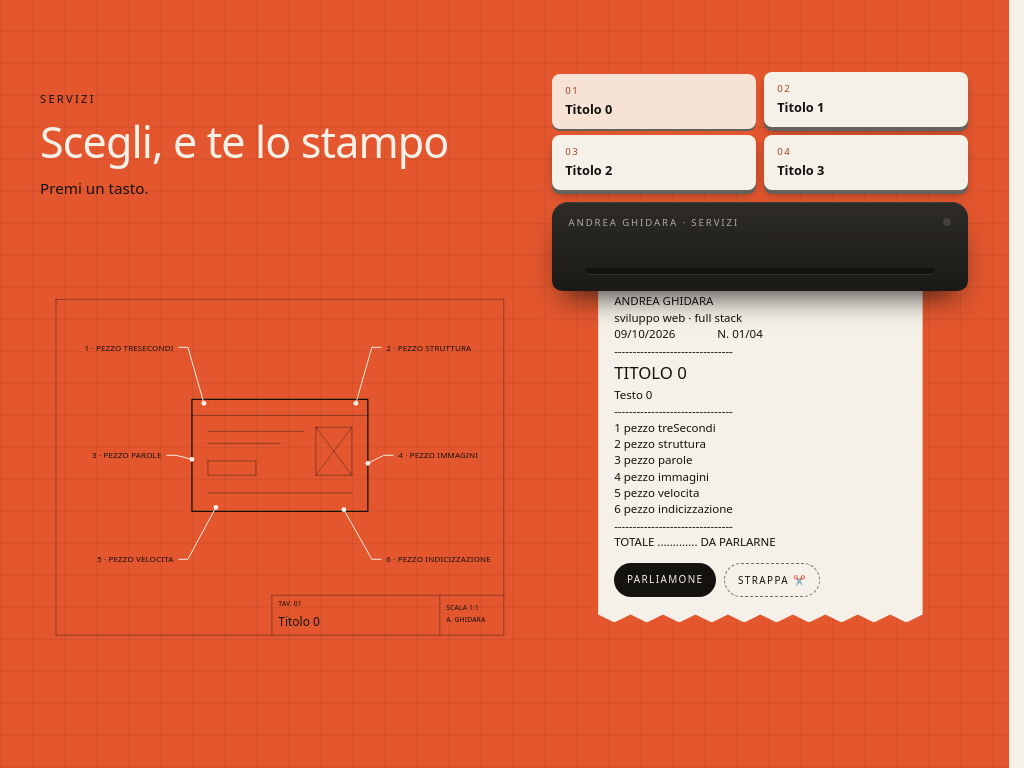
Scenario: la stampante dei servizi › «strappa» stacca lo scontrino e riporta il fuoco sul tasto
Step 1. Click the button "02 Titolo 1" → (866, 100), box [764, 72, 968, 127]
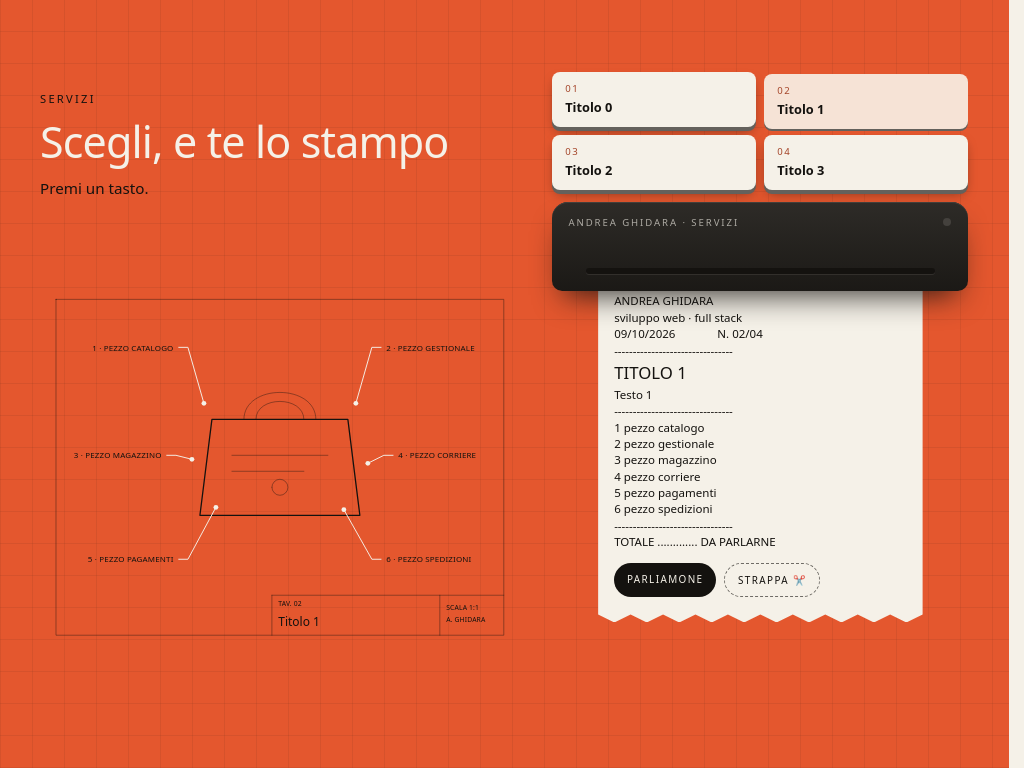
Step 2. Click the button "strappa ✂" → (772, 580), box [724, 563, 820, 597]
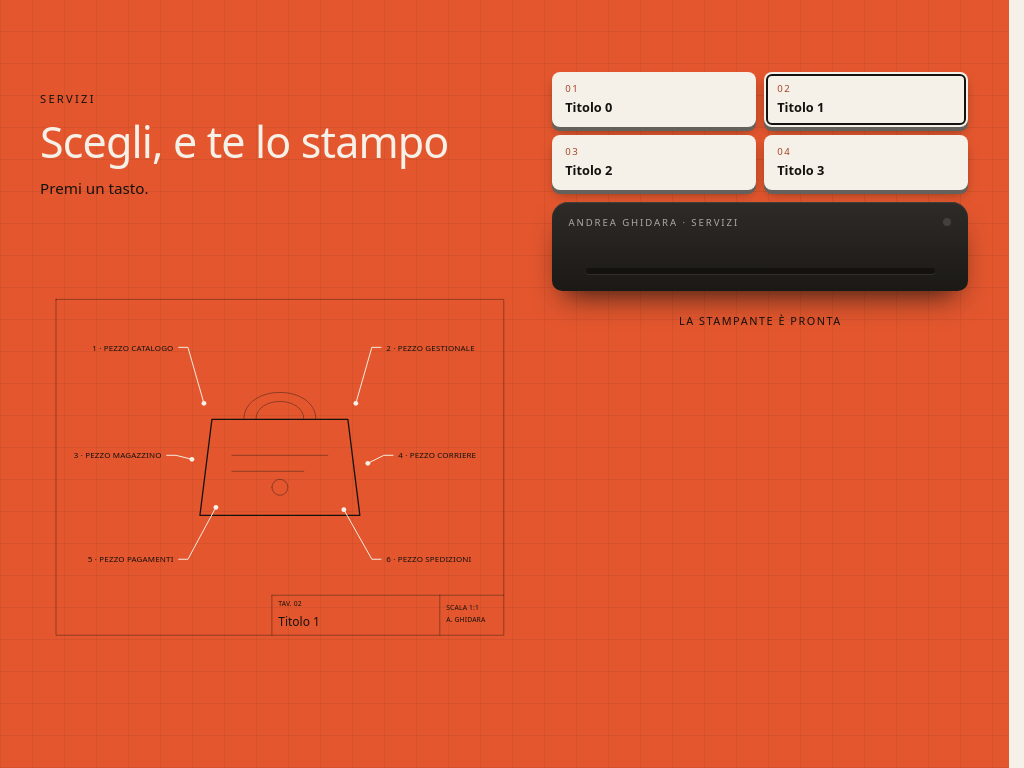
Expected: the text "La stampante è pronta" is shown, [679, 313, 842, 328]
